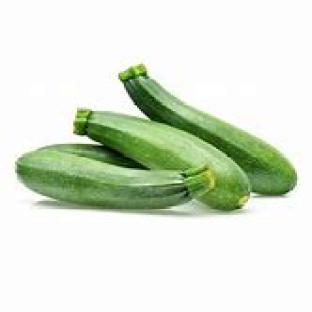Zucchini: (119, 65, 296, 194), (74, 110, 249, 209), (17, 150, 212, 208), (40, 144, 142, 168)
